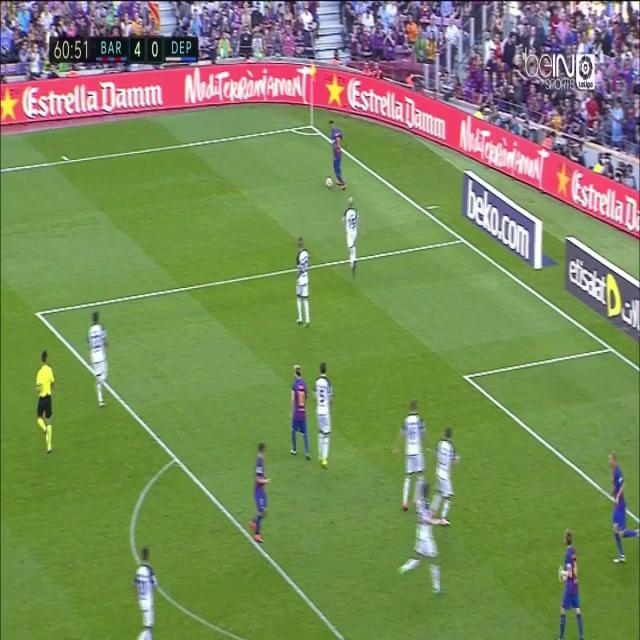Ball: (324, 174, 333, 192)
Player: (397, 482, 448, 594), (606, 450, 640, 568), (394, 395, 429, 509), (556, 523, 585, 640), (430, 422, 462, 522), (85, 307, 111, 418), (247, 438, 273, 547), (131, 542, 158, 640), (288, 362, 313, 466), (313, 361, 336, 474), (295, 233, 313, 329), (327, 118, 349, 194), (343, 196, 360, 279)
Referee: (35, 347, 58, 458)
